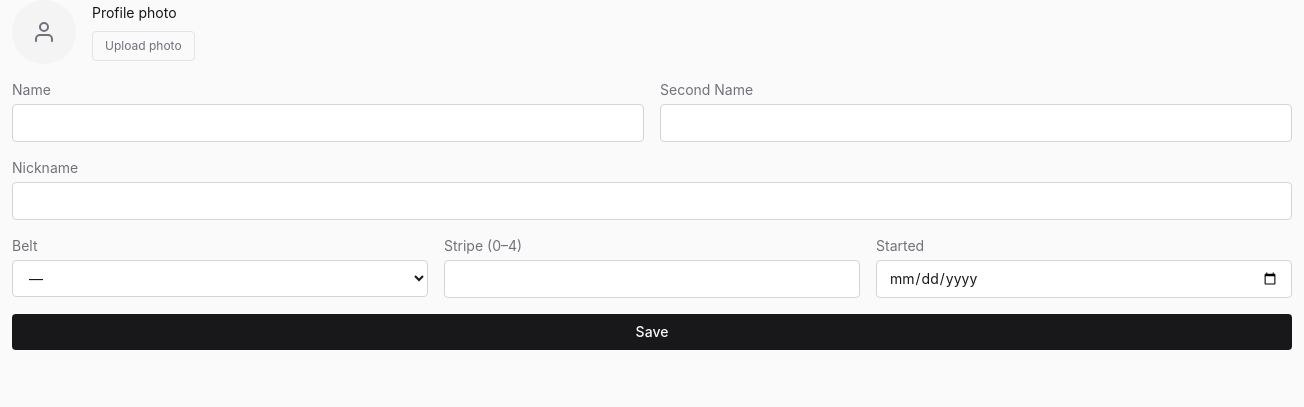
Scenario: ProfileForm › blocks submit and shows validation errors when required fields are empty
This screenshot has width=1304, height=407.
Click the button "Save" at coordinates (652, 332), box [12,314,1292,350]
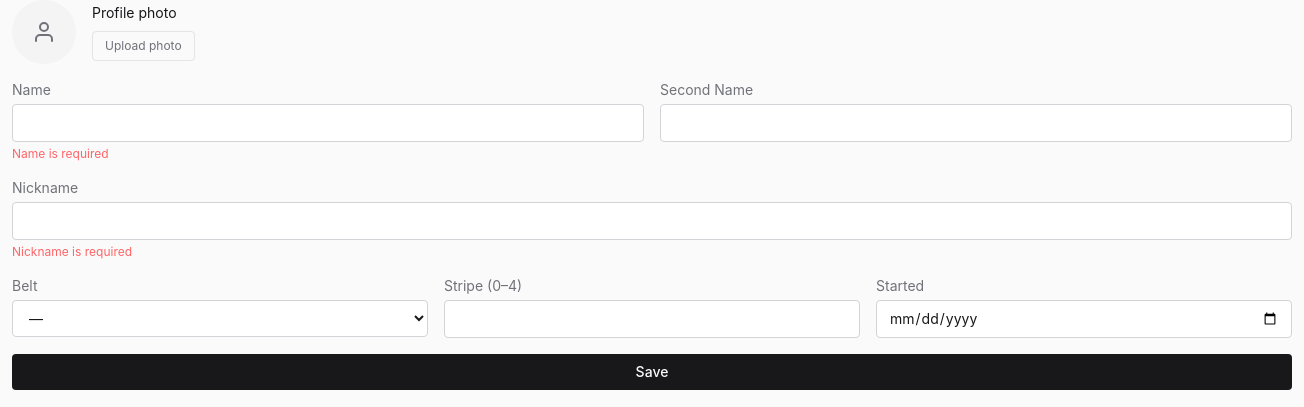
Check: the text "Name is required" is shown, box [12,146,109,161]
Check: the text "Nickname is required" is shown, box [12,244,132,259]
